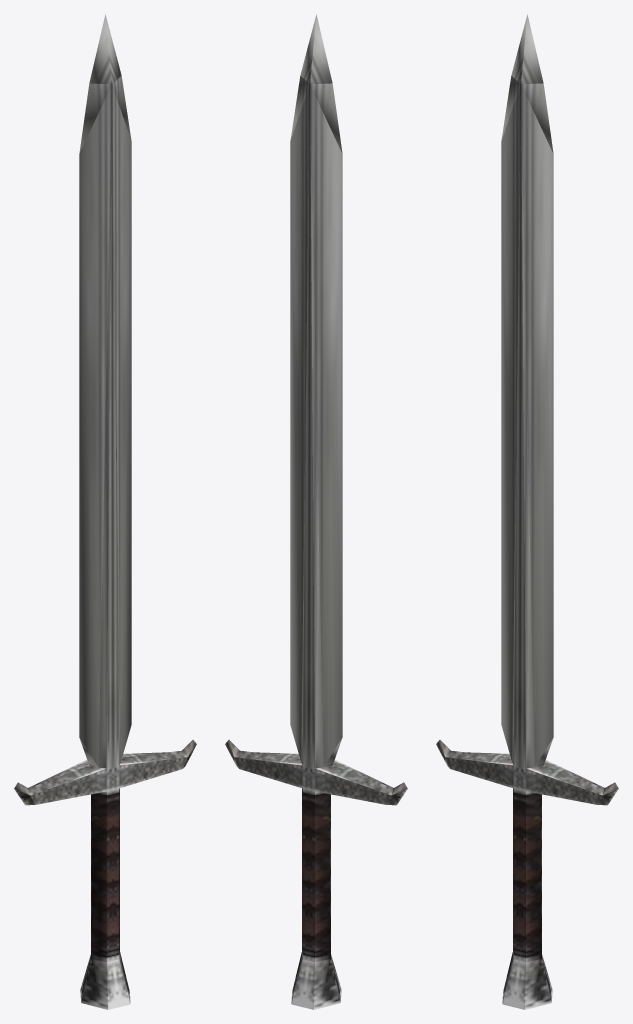
File: psx_sword.obj
3 views of the same model, side by side, from view 1: azimuth 30°, elevation 25°; view 2: azimuth 150°, elevation 25°; view 3: azimuth 330°, elevation 25° (orthographic).
Visible parts, largest first — view 1: Sword; view 2: Sword; view 3: Sword.
Part boxes in pixels (left/top/right/bottom): Sword: left=14, top=14, right=196, bottom=1009; Sword: left=225, top=14, right=407, bottom=1009; Sword: left=436, top=14, right=618, bottom=1009.
Size of the model in its own units: 0.2122 by 1.1 by 0.0556.
